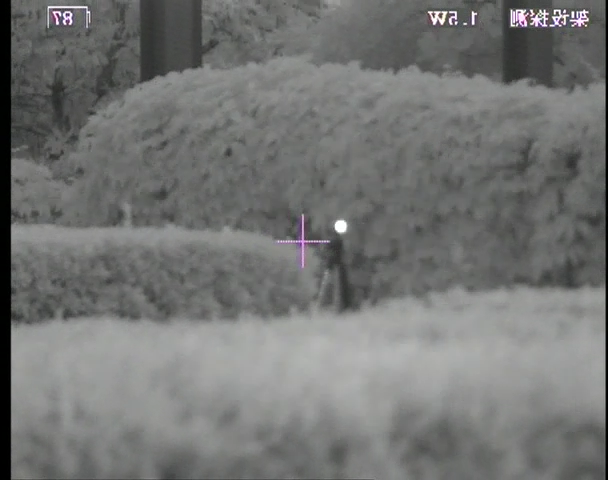my: (333, 219, 348, 234)
